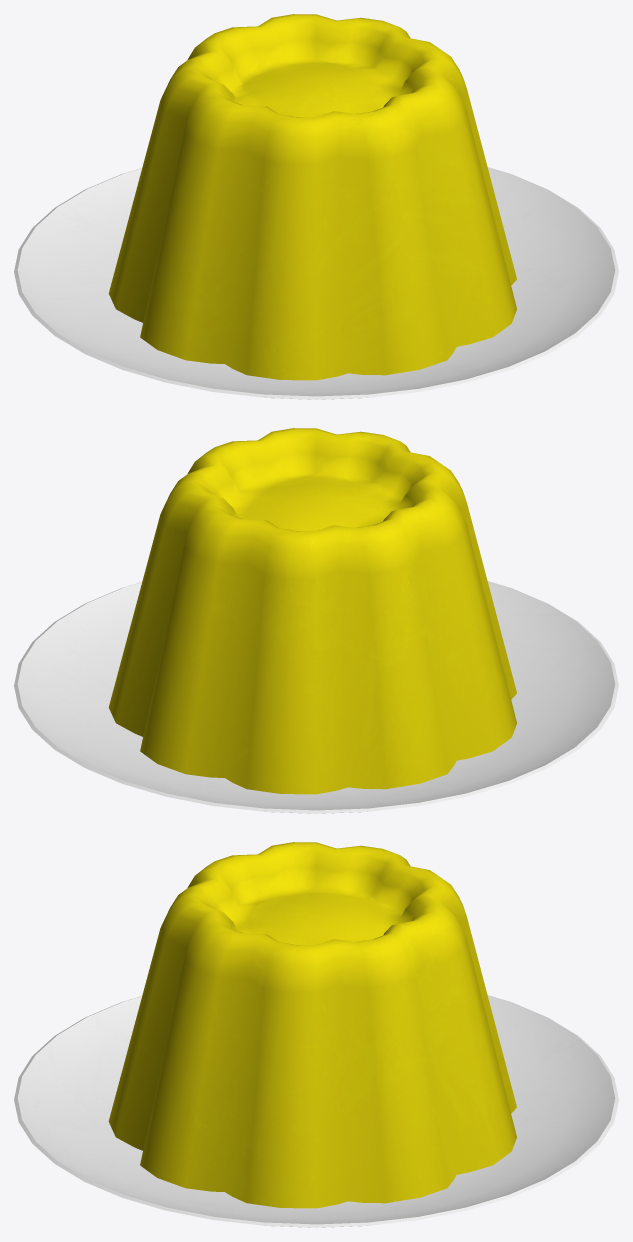
File: Jelly.obj
The picture shows the model from 3 angles, top to bottom: view 1: azimuth 30°, elevation 25°; view 2: azimuth 150°, elevation 25°; view 3: azimuth 270°, elevation 25°; orthographic projection.
Parts seen in each view (by area): view 1: Jelly; view 2: Jelly; view 3: Jelly.
Boxes of the visible parts, x1,y1,x2,y2 form: Jelly: (14,14,618,399); Jelly: (14,428,618,813); Jelly: (14,842,618,1227).
Bounding box in the file's own units: 8.41 × 3.68 × 8.41.
